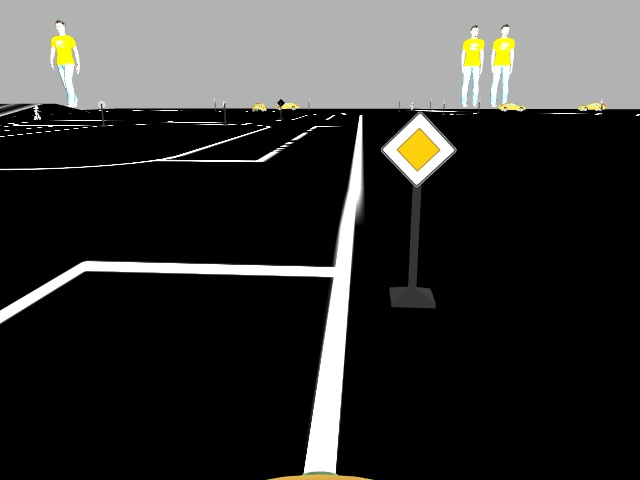Priority: (384, 115, 455, 184)
